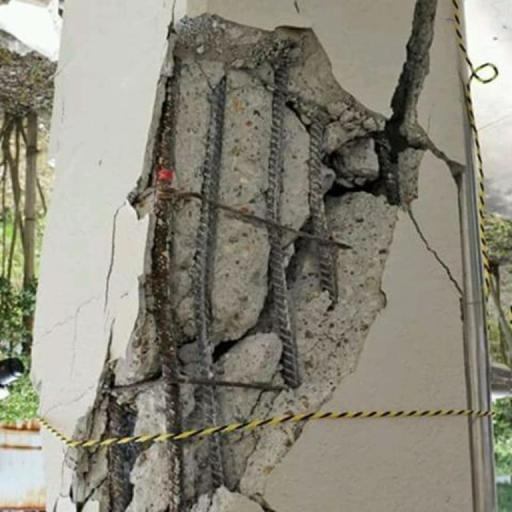spalling: (58, 1, 471, 512), (413, 220, 469, 303), (96, 208, 126, 310)
